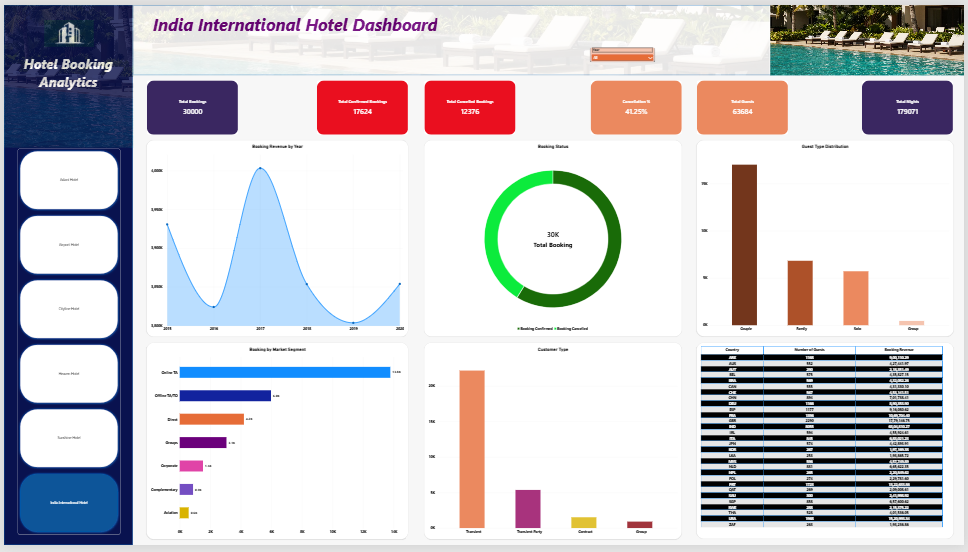

The dashboard page shown, as its layout file describes it:
{"tool":"powerbi","page":{"name":"India International Hotel","canvas":[3840,2160],"ordinal":5},"visuals":[{"type":"shape","box":[0,0,515,2160],"z":0},{"type":"image","box":[158,62,200,107],"z":1000},{"type":"shape","box":[515.4,0,3323.1,280.8],"z":2000},{"type":"image","box":[3065.6,0,775,281.2],"z":3000},{"type":"image","box":[515.6,0,2546.9,281.2],"z":4000},{"type":"donutChart","title":"Booking  Status ","fields":{"Category":["India_International_Hotel.Booking  Status"],"Y":["CountNonNull(India_International_Hotel.Booking  Status)"]},"box":[1681.2,537.5,1031.7,786.7],"z":5000},{"type":"barChart","title":"Booking by Market Segment ","fields":{"Category":["India_International_Hotel.market_segment"],"Y":["CountNonNull(India_International_Hotel.market_segment)"]},"box":[570.8,1347.9,1047.5,787.5],"z":6000},{"type":"clusteredColumnChart","title":"Guest  Type  Distribution","fields":{"Category":["India_International_Hotel.Guest  Type"],"Y":["CountNonNull(India_International_Hotel.Guest  Type)"]},"box":[2768.8,537.5,1028.6,785.7],"z":7000},{"type":"stackedAreaChart","title":"Booking  Revenue by Year","fields":{"Category":["India_International_Hotel.Year"],"Y":["Sum(India_International_Hotel.Booking  Revenue)"]},"box":[570.8,537.5,1047.5,787.5],"z":8000},{"type":"cardVisual","title":"Total Bookings","fields":{"Data":["India_International_Hotel.Total Confirmed  Bookings"]},"box":[1250.6,301.2,367.5,220],"z":9000},{"type":"cardVisual","title":"Total Bookings","fields":{"Data":["India_International_Hotel.total_nights"]},"box":[3429.4,300,367.5,220],"z":10000},{"type":"cardVisual","title":"Total Bookings","fields":{"Data":["India_International_Hotel.cancellation   %"]},"box":[2345.9,300,367.5,220],"z":11000},{"type":"cardVisual","title":"Total Bookings","fields":{"Data":["India_International_Hotel.total_guests"]},"box":[2768.2,300,367.5,220],"z":12000},{"type":"cardVisual","title":"Total Bookings","fields":{"Data":["India_International_Hotel.Total cancelled  Bookings"]},"box":[1681.2,300,367.5,220],"z":13000},{"type":"image","box":[0,0,517.5,570],"z":14000},{"type":"pageNavigator","box":[53.3,576.7,410,1543.3],"z":15000},{"type":"slicer","fields":{"Values":["India_International_Hotel.Year"]},"box":[2345.5,170.9,257.8,57.8],"z":16000},{"type":"slicer","fields":{"Values":["India_International_Hotel.Month"]},"box":[1681.8,170.9,257.8,57.8],"z":17000},{"type":"clusteredColumnChart","title":"Customer Type","fields":{"Category":["India_International_Hotel.customer_type"],"Y":["CountNonNull(India_International_Hotel.customer_type)"]},"box":[1681.2,1347.9,1031.5,787],"z":18000},{"type":"tableEx","fields":{"Values":["India_International_Hotel.country","CountNonNull(India_International_Hotel.country)","Sum(India_International_Hotel.Booking  Revenue)"]},"box":[2768.8,1347.9,1028.6,785.7],"z":19000},{"type":"cardVisual","title":"Total Bookings","fields":{"Data":["CountNonNull(India_International_Hotel.Booking  Status)"]},"box":[571.4,301.4,367.5,220],"z":19001}]}

Visuals, with their boxes in screenshot pixels (x1, y1, x2, y2), scaled from the page's 3840x2160 canvas onto the 968x552 screenshot:
shape: <bbox>0, 0, 130, 551</bbox>
image: <bbox>40, 16, 90, 43</bbox>
shape: <bbox>130, 0, 967, 72</bbox>
image: <bbox>773, 0, 967, 72</bbox>
image: <bbox>130, 0, 772, 72</bbox>
"Booking  Status " donutChart: <bbox>424, 137, 684, 338</bbox>
"Booking by Market Segment " barChart: <bbox>144, 344, 408, 546</bbox>
"Guest  Type  Distribution" clusteredColumnChart: <bbox>698, 137, 957, 338</bbox>
"Booking  Revenue by Year" stackedAreaChart: <bbox>144, 137, 408, 339</bbox>
"Total Bookings" cardVisual: <bbox>315, 77, 408, 133</bbox>
"Total Bookings" cardVisual: <bbox>864, 77, 957, 133</bbox>
"Total Bookings" cardVisual: <bbox>591, 77, 684, 133</bbox>
"Total Bookings" cardVisual: <bbox>698, 77, 790, 133</bbox>
"Total Bookings" cardVisual: <bbox>424, 77, 516, 133</bbox>
image: <bbox>0, 0, 130, 146</bbox>
pageNavigator: <bbox>13, 147, 117, 542</bbox>
slicer - India_International_Hotel.Year: <bbox>591, 44, 656, 58</bbox>
slicer - India_International_Hotel.Month: <bbox>424, 44, 489, 58</bbox>
"Customer Type" clusteredColumnChart: <bbox>424, 344, 684, 546</bbox>
tableEx - India_International_Hotel.country x CountNonNull(India_International_Hotel.country): <bbox>698, 344, 957, 545</bbox>
"Total Bookings" cardVisual: <bbox>144, 77, 237, 133</bbox>
